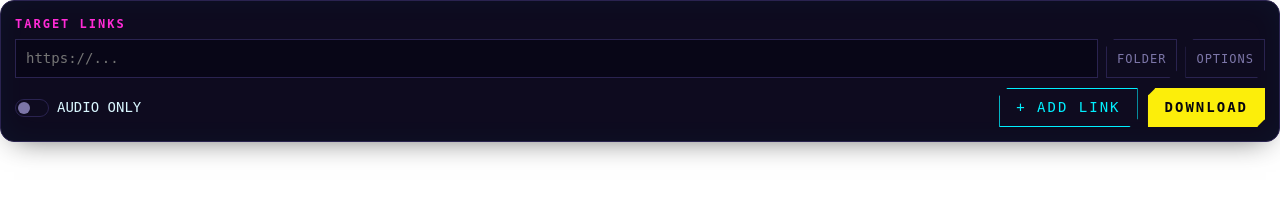
Test: UrlInput submit › uses a generic message when a rejection has no message
This screenshot has width=1280, height=199.
Type "https://x.com" into the field named "Link 1".
click(557, 58); type("https://x.com")  # box [15, 39, 1098, 78]
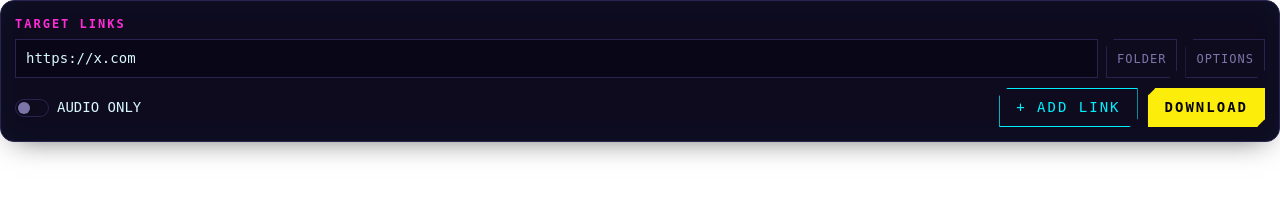
Click the button "DOWNLOAD".
click(1206, 108)  # box [1148, 88, 1265, 127]
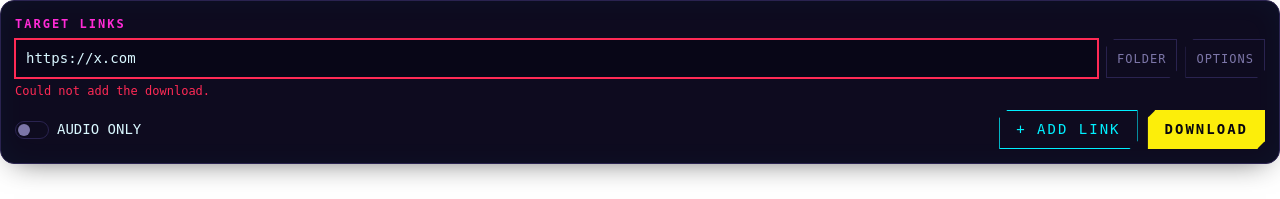
Result: the message reads "Could not add the download." at [15, 84, 210, 98]
